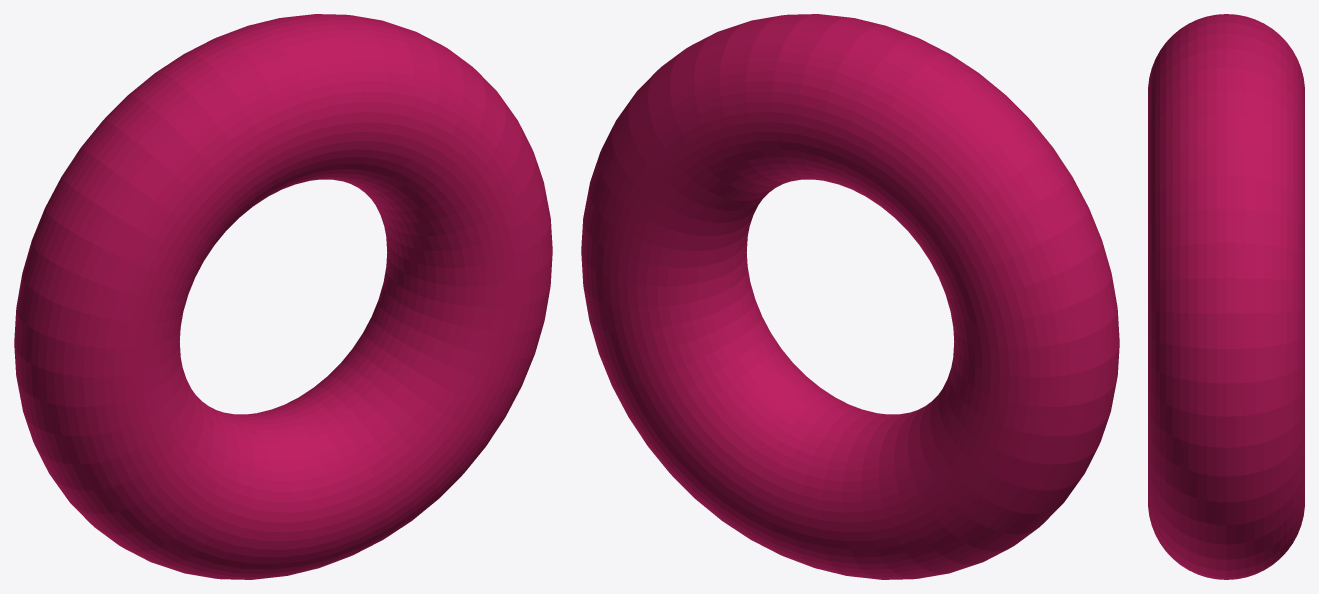
The picture shows the model from 3 angles, left to right: view 1: azimuth 30°, elevation 25°; view 2: azimuth 150°, elevation 25°; view 3: azimuth 270°, elevation 25°; orthographic projection. The views are drawn at different scales.
Parts seen in each view (by area): view 1: world; view 2: world; view 3: world.
Boxes of the visible parts, left/top/right/bottom form: world: left=14, top=14, right=552, bottom=579; world: left=581, top=14, right=1119, bottom=579; world: left=1148, top=14, right=1304, bottom=579.
Size of the model in its own units: 36 by 35.93 by 9.98.
